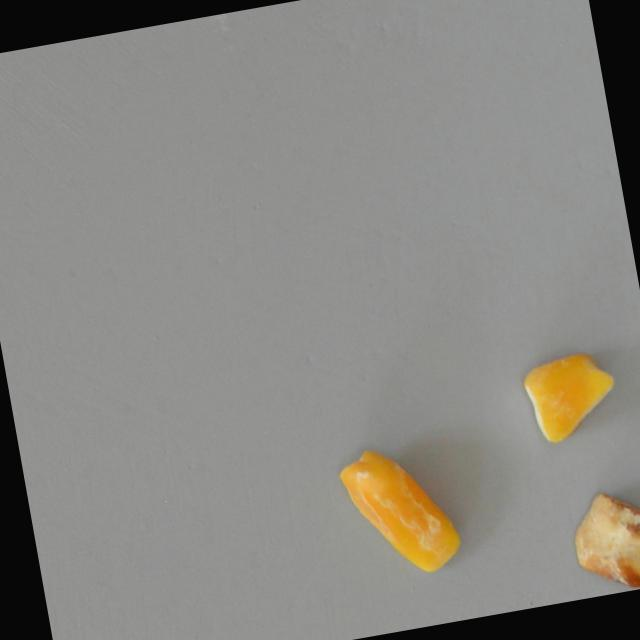dañado: (329, 425, 475, 593), (516, 342, 626, 451), (560, 480, 640, 599)
